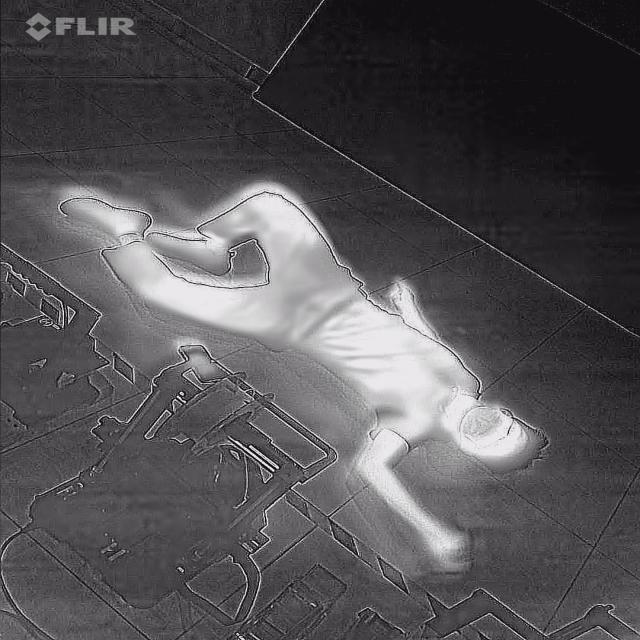Victim: (51, 176, 555, 579)
